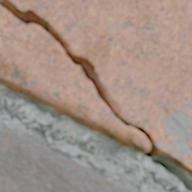brick: (0, 127, 133, 191)
broken_brick: (5, 0, 191, 174), (0, 7, 149, 153)
crack: (0, 0, 191, 191)
